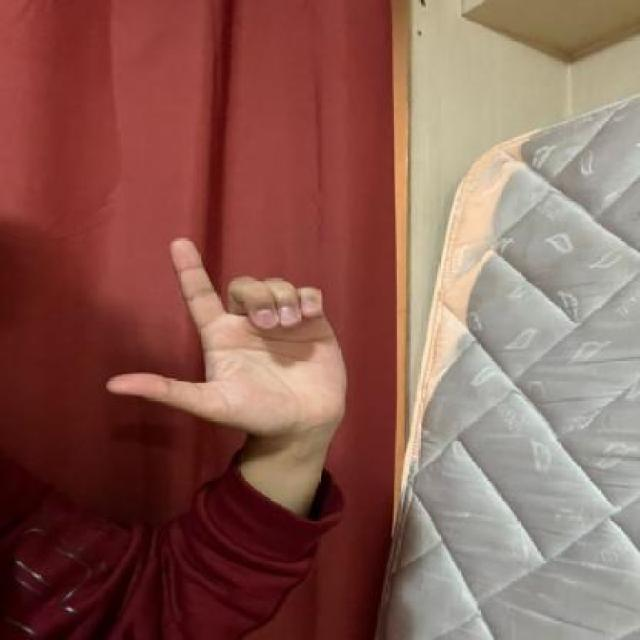L: (97, 235, 358, 433)
